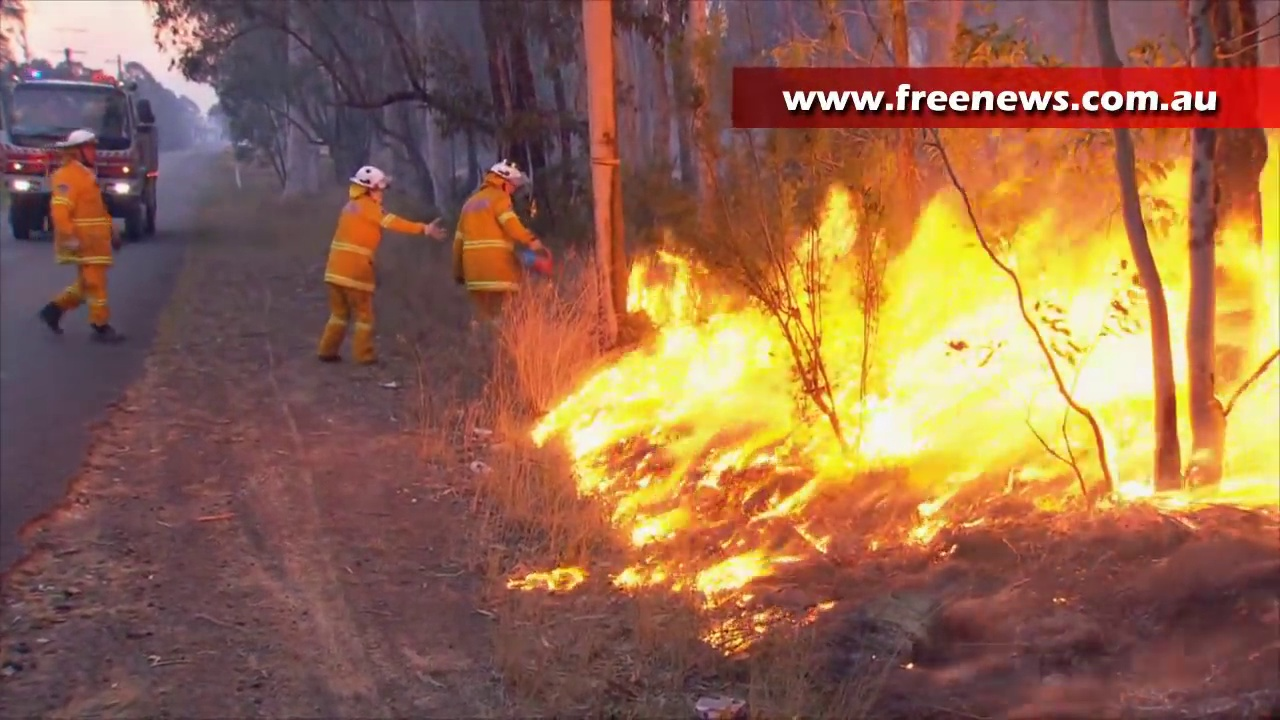fire: (538, 143, 1280, 566), (628, 255, 697, 323), (702, 555, 764, 590)
